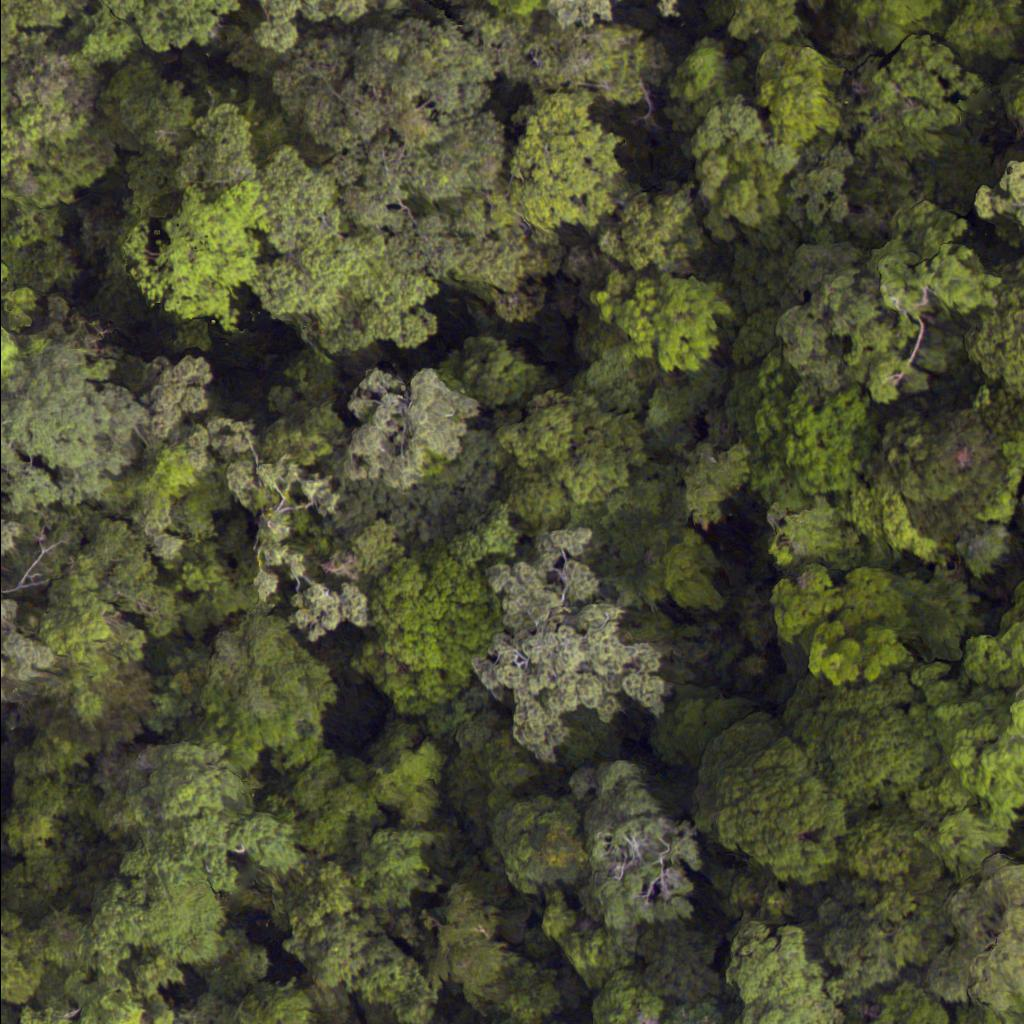crown: (270, 21, 511, 267), (484, 518, 675, 767), (246, 137, 443, 358), (215, 406, 370, 650), (99, 740, 293, 928), (840, 199, 1008, 393), (693, 31, 845, 226), (728, 302, 871, 508), (355, 537, 500, 717), (501, 379, 656, 534), (909, 617, 1023, 824), (575, 752, 702, 936), (115, 178, 262, 325), (880, 400, 1019, 553), (764, 555, 917, 690), (200, 605, 339, 740), (509, 89, 635, 234), (339, 369, 476, 497), (851, 29, 985, 158), (586, 269, 731, 383), (263, 740, 382, 854), (590, 180, 710, 275), (488, 795, 585, 891), (957, 266, 1023, 382), (238, 0, 382, 50), (969, 146, 1023, 242), (0, 0, 90, 36), (560, 0, 666, 25), (0, 14, 18, 125), (0, 307, 20, 383)
